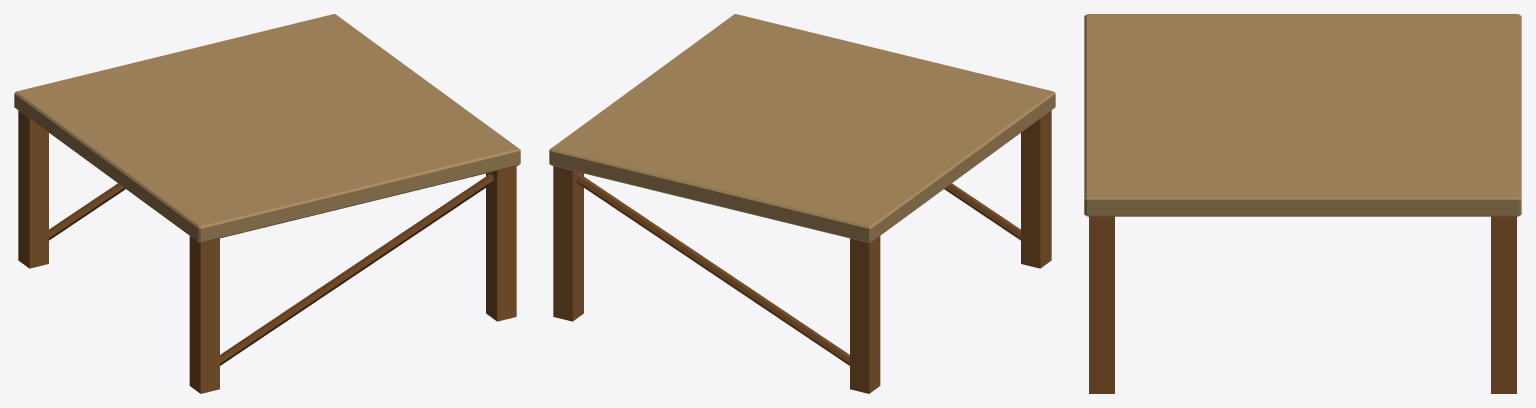
The model's file is platform_2x2.glb.
3 views of the same model, side by side, from view 1: azimuth 30°, elevation 25°; view 2: azimuth 150°, elevation 25°; view 3: azimuth 270°, elevation 25° (orthographic). The views are drawn at different scales.
Parts seen in each view (by area): view 1: platform_2x2; view 2: platform_2x2; view 3: platform_2x2.
Part boxes in pixels (<box>): platform_2x2: <box>14,14,520,393</box>; platform_2x2: <box>549,14,1055,393</box>; platform_2x2: <box>1084,14,1521,393</box>.
Bounding box in the file's own units: 2 × 1 × 2.
